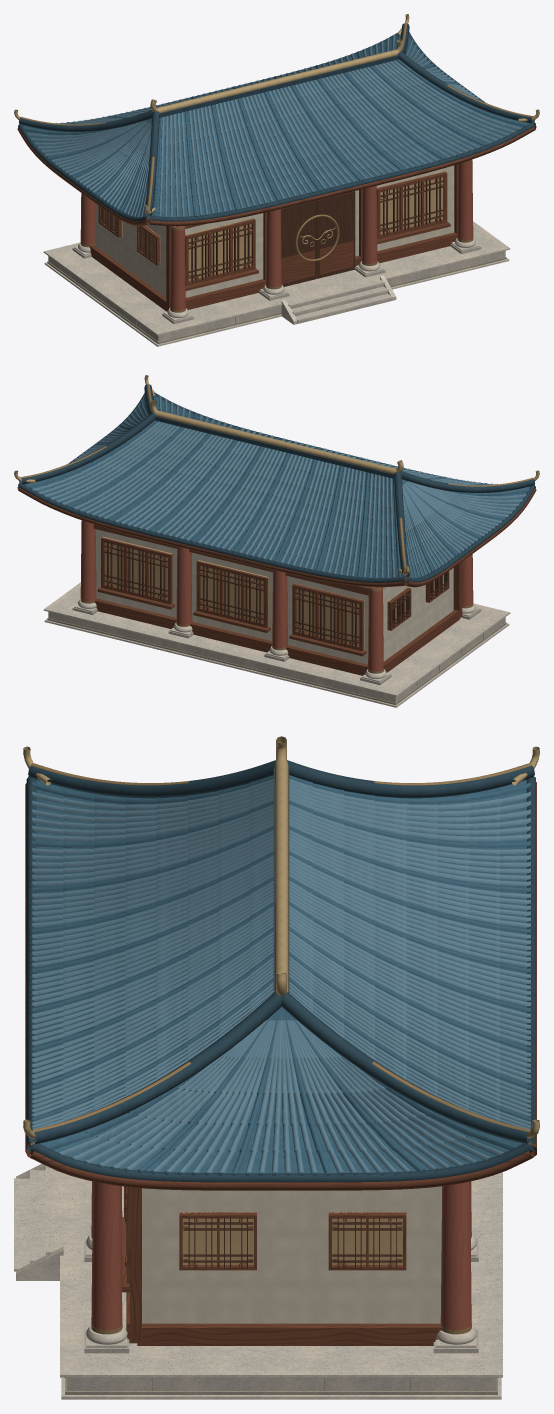
The picture shows the model from 3 angles, top to bottom: view 1: azimuth 30°, elevation 25°; view 2: azimuth 150°, elevation 25°; view 3: azimuth 270°, elevation 25°; orthographic projection. The views are drawn at different scales.
Parts seen in each view (by area): view 1: CourtyardRoof_tileRound, CourtyardRoof_glaze, CourtyardThreshold_stonePale, PlasterAndRedTimber_heartwood, PlasterAndRedTimber_walnut, CourtyardRoof_shadowTile, PlasterAndRedTimber_lime, PlasterAndRedTimber_lacquer, PlasterAndRedTimber_silk, CourtyardThreshold_stone, CourtyardRoof_heartwood, CourtyardRoof_gold (+5 smaller); view 2: CourtyardRoof_tileRound, CourtyardRoof_glaze, PlasterAndRedTimber_heartwood, CourtyardThreshold_stonePale, CourtyardRoof_shadowTile, PlasterAndRedTimber_lime, PlasterAndRedTimber_walnut, PlasterAndRedTimber_lacquer, PlasterAndRedTimber_silk, CourtyardThreshold_stone, CourtyardRoof_heartwood, CourtyardRoof_gold (+4 smaller); view 3: CourtyardRoof_tileRound, CourtyardRoof_glaze, CourtyardThreshold_stonePale, PlasterAndRedTimber_lime, CourtyardRoof_shadowTile, PlasterAndRedTimber_heartwood, PlasterAndRedTimber_lacquer, CourtyardRoof_heartwood, CourtyardThreshold_stone, PlasterAndRedTimber_silk, CourtyardRoof_gold, PlasterAndRedTimber_walnut (+4 smaller).
Part boxes in pixels (x1,y1,x2,y2): CourtyardRoof_tileRound: (27,34,521,217); CourtyardRoof_glaze: (24,34,529,217); CourtyardThreshold_stonePale: (43,221,510,346); PlasterAndRedTimber_heartwood: (89,164,458,311); PlasterAndRedTimber_walnut: (99,176,444,286); CourtyardRoof_shadowTile: (18,23,535,221); PlasterAndRedTimber_lime: (95,165,454,297); PlasterAndRedTimber_lacquer: (80,159,473,310); PlasterAndRedTimber_silk: (104,171,444,280); CourtyardThreshold_stone: (48,251,505,341); CourtyardRoof_heartwood: (17,124,536,226); CourtyardRoof_gold: (14,14,539,214); CourtyardRoof_tileRound: (32,395,526,578); CourtyardRoof_glaze: (25,395,530,578); PlasterAndRedTimber_heartwood: (93,524,462,675); CourtyardThreshold_stonePale: (43,582,510,707); CourtyardRoof_shadowTile: (18,384,535,582); PlasterAndRedTimber_lime: (95,529,453,664); PlasterAndRedTimber_walnut: (104,541,448,648); PlasterAndRedTimber_lacquer: (80,520,473,671); PlasterAndRedTimber_silk: (102,536,443,649); CourtyardThreshold_stone: (48,612,505,702); CourtyardRoof_heartwood: (17,485,536,587); CourtyardRoof_gold: (14,375,539,575); CourtyardRoof_tileRound: (29,779,530,1173); CourtyardRoof_glaze: (32,775,530,1173); CourtyardThreshold_stonePale: (14,1164,502,1399); PlasterAndRedTimber_lime: (142,1186,442,1323); CourtyardRoof_shadowTile: (26,760,535,1182); PlasterAndRedTimber_heartwood: (121,1186,443,1345); PlasterAndRedTimber_lacquer: (91,1181,471,1330); CourtyardRoof_heartwood: (25,782,536,1190); CourtyardThreshold_stone: (66,1378,496,1390); PlasterAndRedTimber_silk: (179,1212,405,1264); CourtyardRoof_gold: (23,736,539,1138); PlasterAndRedTimber_walnut: (126,1187,402,1273).
Size of the model in its own units: 13.48 by 6.3 by 7.97.
14 materials, 14 textured.
